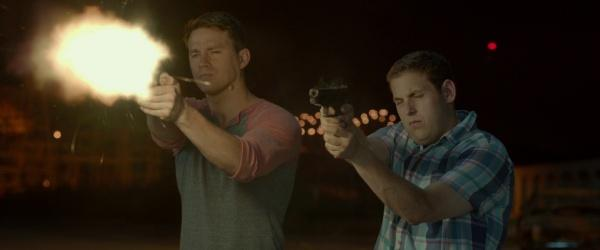Gun: (313, 85, 360, 119)
